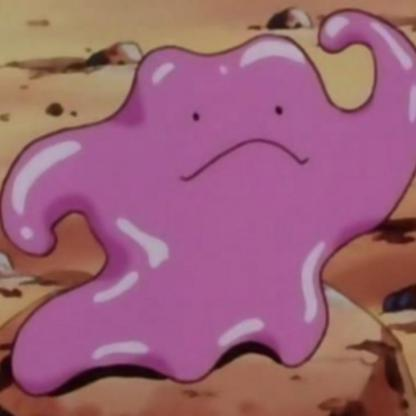Ditto: (1, 7, 415, 416)
